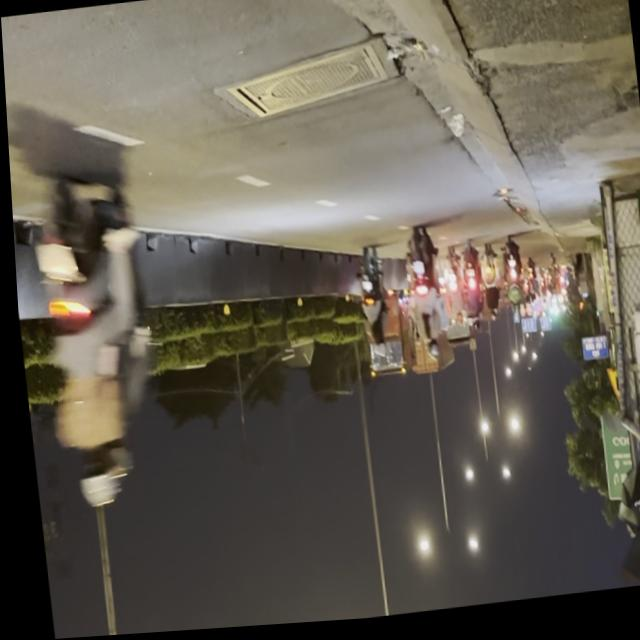helmet: (67, 444, 121, 514)
licenseplate: (13, 155, 170, 522)
nohelmet: (31, 241, 74, 277)
